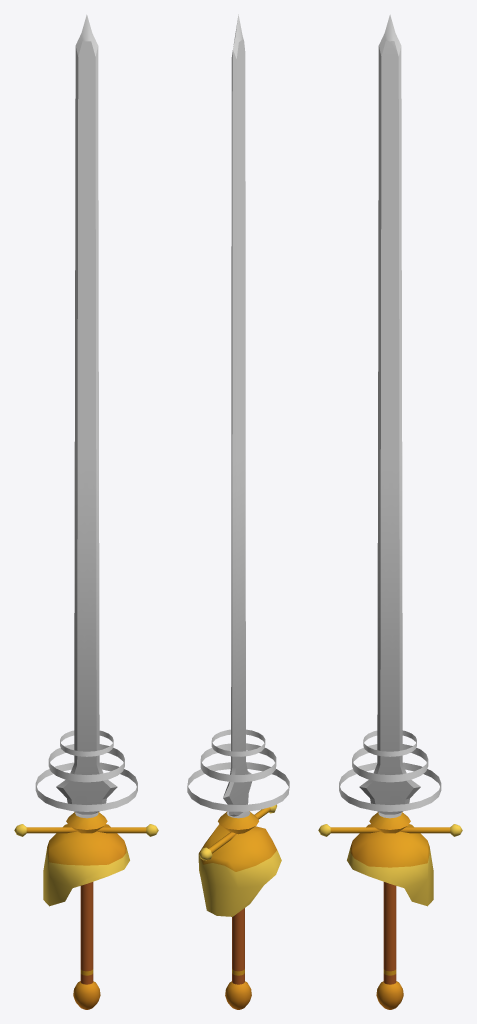
File: Weapon_rapier.fbx
3 renders of one model, left to right at view 1: azimuth 90°, elevation 25°; view 2: azimuth 150°, elevation 25°; view 3: azimuth 270°, elevation 25°, orthographic.
Parts seen in each view (by area): view 1: W_R_3; view 2: W_R_3; view 3: W_R_3.
Boxes of the visible parts, x1,y1,x2,y2 form: W_R_3: (14,14,158,1009); W_R_3: (187,14,289,1009); W_R_3: (318,14,462,1009).
Size of the model in its own units: 10.63 by 114 by 14.98.
